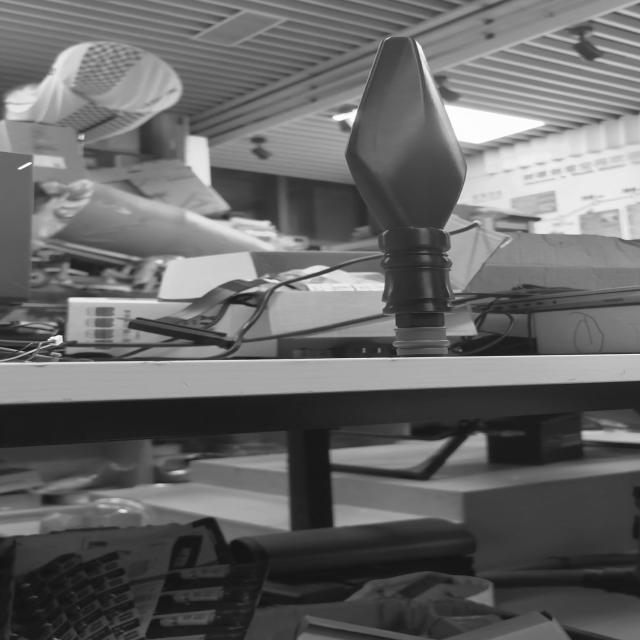base: (395, 324, 447, 356)
